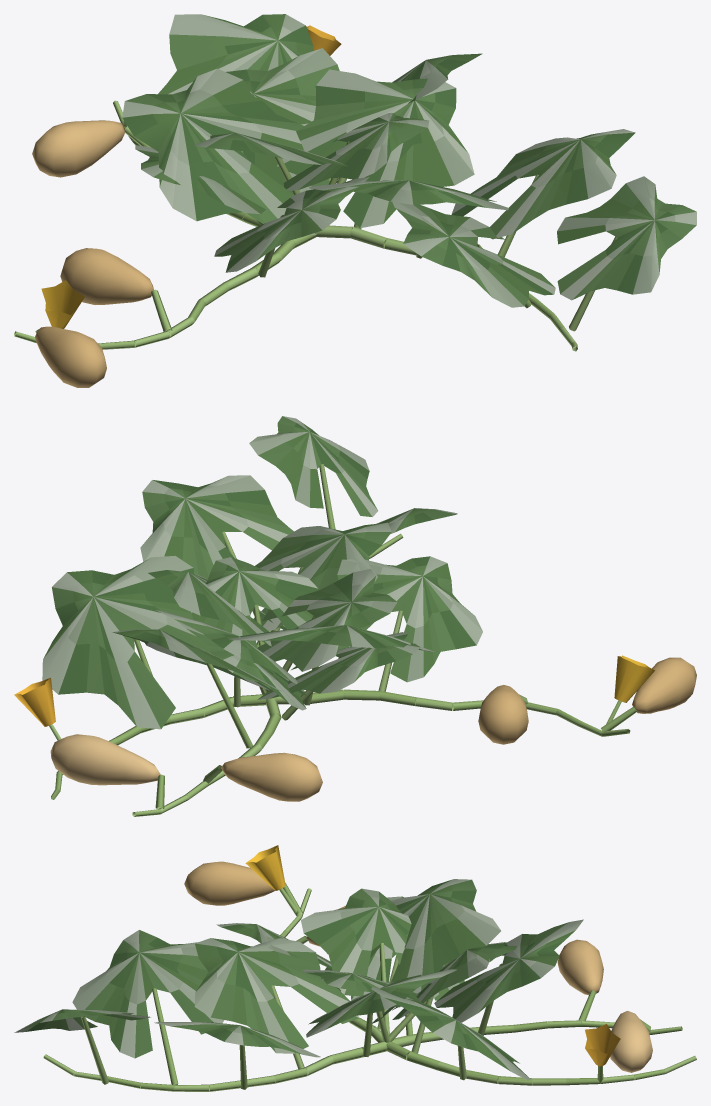
File: courge_butternut_mur.glb
3 renders of one model, top to bottom at view 1: azimuth 30°, elevation 25°; view 2: azimuth 150°, elevation 25°; view 3: azimuth 270°, elevation 25°, orthographic. The views are drawn at different scales.
Visible parts, largest first — view 1: Courge_Feuilles, Courge_Fruits, Courge_Tiges, Courge_Fleurs; view 2: Courge_Feuilles, Courge_Fruits, Courge_Tiges, Courge_Fleurs; view 3: Courge_Feuilles, Courge_Tiges, Courge_Fruits, Courge_Fleurs.
Boxes of the visible parts, box(x1,y1,x2,y2) form: Courge_Feuilles: box(122, 14, 696, 307); Courge_Fruits: box(32, 120, 153, 387); Courge_Tiges: box(14, 100, 617, 351); Courge_Fleurs: box(41, 25, 341, 328); Courge_Feuilles: box(42, 416, 482, 729); Courge_Fruits: box(50, 657, 696, 801); Courge_Tiges: box(49, 464, 637, 816); Courge_Fleurs: box(14, 655, 654, 726); Courge_Feuilles: box(14, 879, 583, 1080); Courge_Tiges: box(43, 883, 696, 1091); Courge_Fruits: box(184, 861, 652, 1072); Courge_Fleurs: box(245, 845, 620, 1066).
Bounding box in the file's own units: 1.42 × 0.3398 × 1.7.
